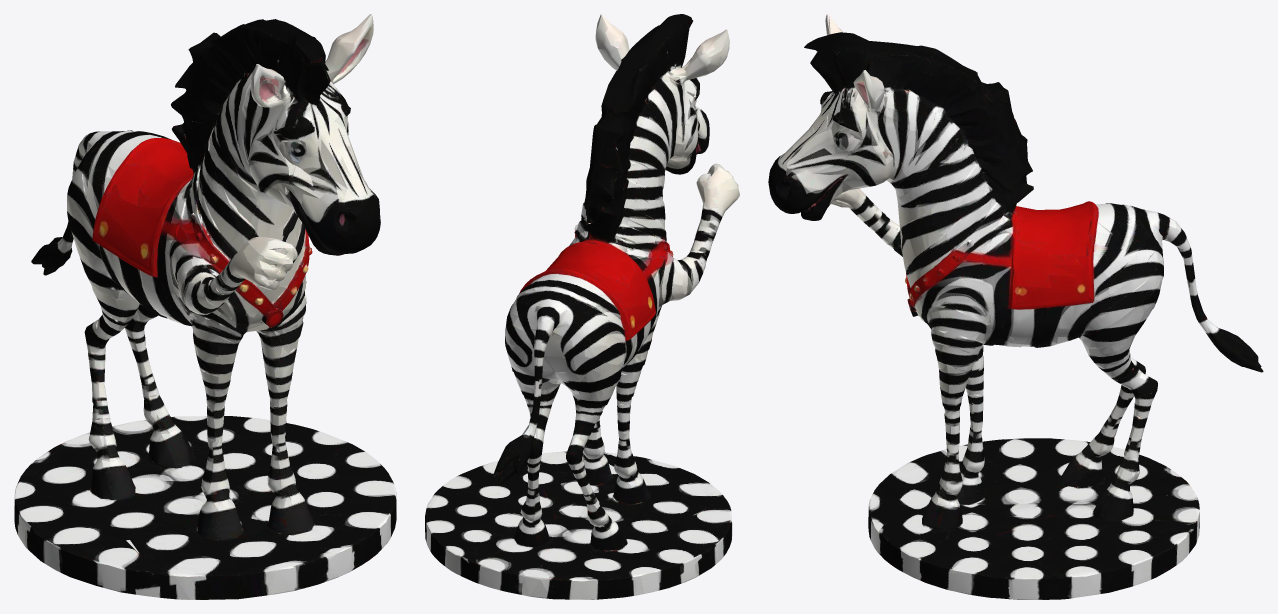
The model's file is zebra.glb.
The picture shows the model from 3 angles, left to right: view 1: azimuth 30°, elevation 25°; view 2: azimuth 150°, elevation 25°; view 3: azimuth 270°, elevation 25°; orthographic projection. The views are drawn at different scales.
Bounding box in the file's own units: 1.17 × 1.9 × 1.73.
1 material, 1 textured.
